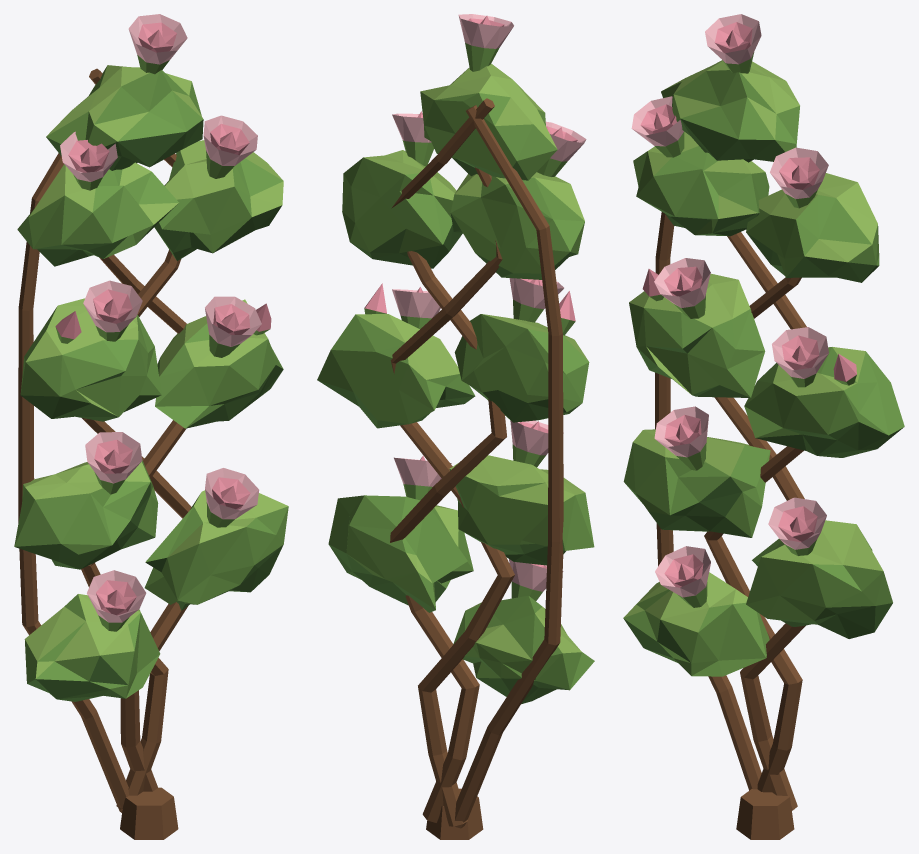
Rendered from FMS_Garden_Rose_Climbing_Side_Pink.fbx.
The picture shows the model from 3 angles, left to right: view 1: azimuth 30°, elevation 25°; view 2: azimuth 150°, elevation 25°; view 3: azimuth 330°, elevation 25°; orthographic projection. The views are drawn at different scales.
Parts seen in each view (by area): view 1: FMS_Garden_Rose_Climbing_Side_Pink_Body; view 2: FMS_Garden_Rose_Climbing_Side_Pink_Body; view 3: FMS_Garden_Rose_Climbing_Side_Pink_Body.
Part boxes in pixels (x1,y1,x2,y2): FMS_Garden_Rose_Climbing_Side_Pink_Body: (14,14,288,839); FMS_Garden_Rose_Climbing_Side_Pink_Body: (317,14,594,839); FMS_Garden_Rose_Climbing_Side_Pink_Body: (623,14,904,839).
Bounding box in the file's own units: 0.6957 × 2.01 × 0.2371.
